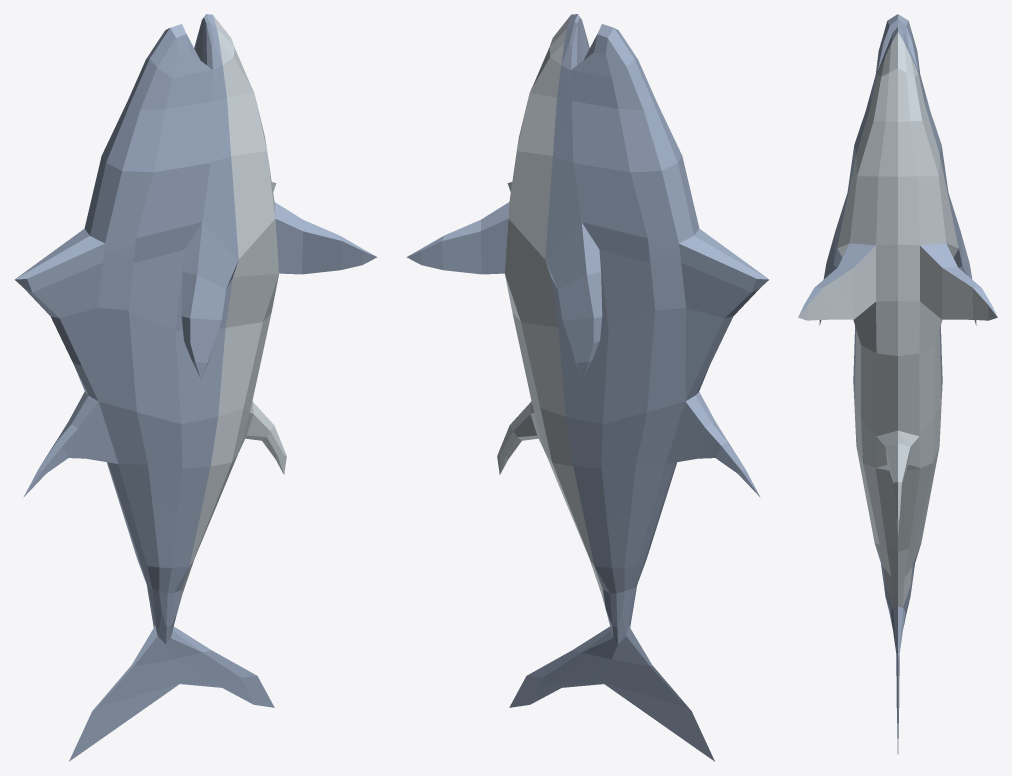
The model's file is TunaFish.fbx.
3 renders of one model, left to right at view 1: azimuth 30°, elevation 25°; view 2: azimuth 150°, elevation 25°; view 3: azimuth 270°, elevation 25°, orthographic.
Parts seen in each view (by area): view 1: TunaFish; view 2: TunaFish; view 3: TunaFish.
Part boxes in pixels (x1,y1,x2,y2): TunaFish: (14,14,377,761); TunaFish: (406,14,769,761); TunaFish: (798,14,997,753).
Size of the model in its own units: 1482 by 3238 by 830.
